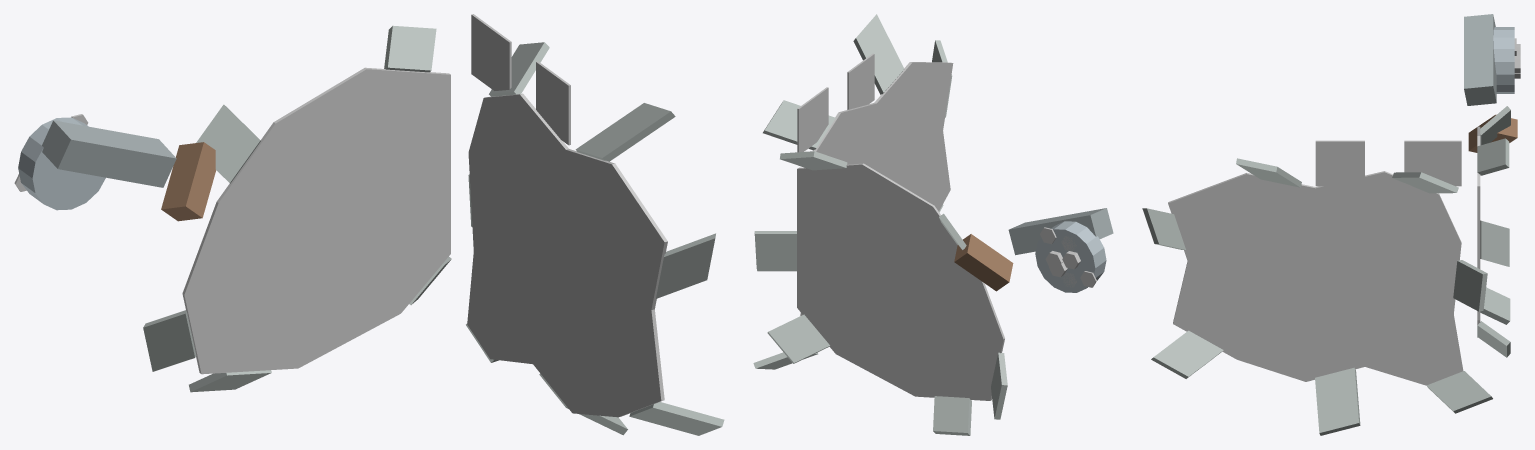
File: body.obj
3 renders of one model, left to right at view 1: azimuth 30°, elevation 25°; view 2: azimuth 150°, elevation 25°; view 3: azimuth 270°, elevation 25°, orthographic. The views are drawn at different scales.
Size of the model in its own units: 4.23 by 3.08 by 3.84.
